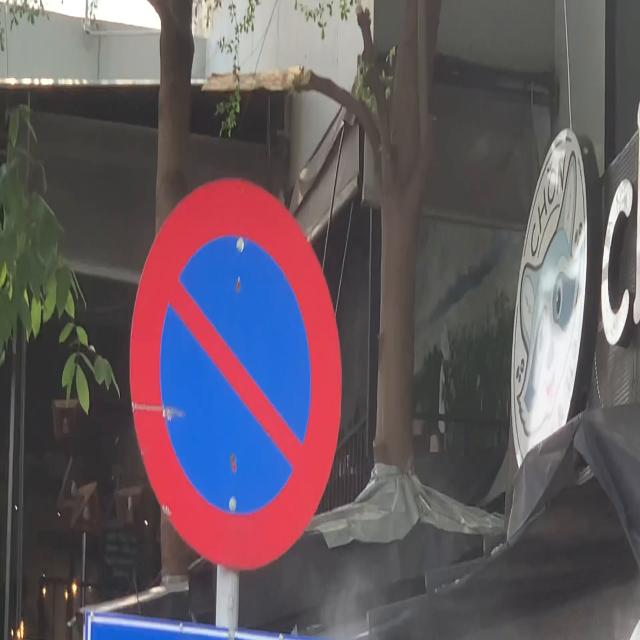Cam do: (123, 169, 345, 571)
